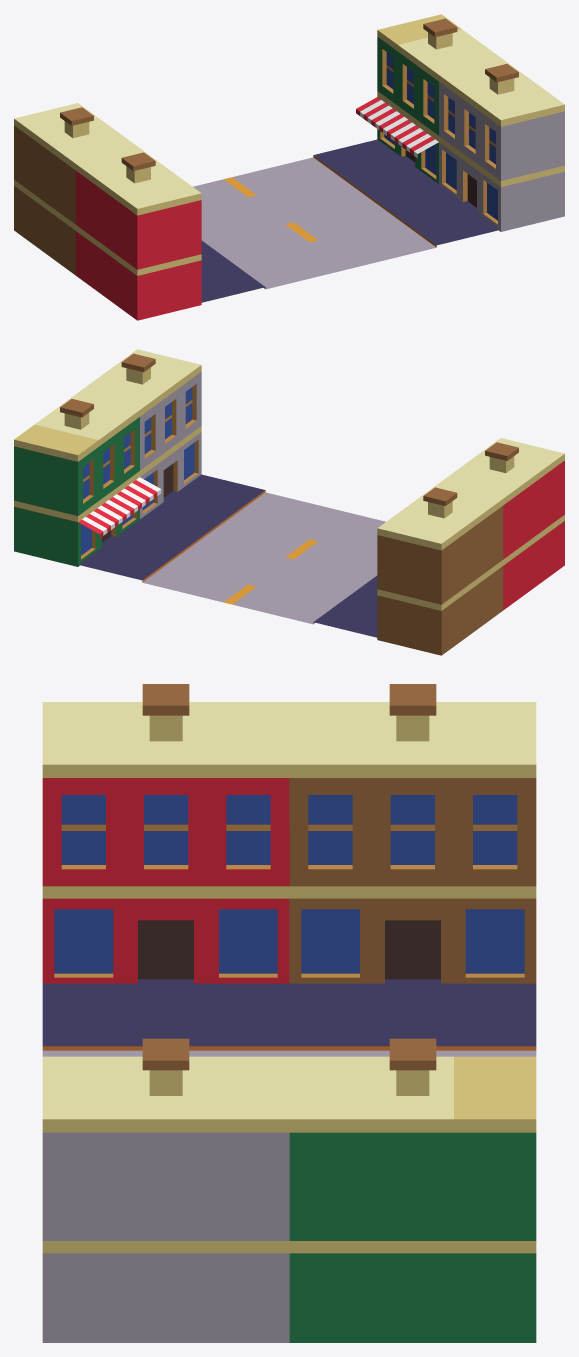
Rendered from road2_actuel_avant_merge.obj.
3 views of the same model, one above another, from view 1: azimuth 30°, elevation 25°; view 2: azimuth 150°, elevation 25°; view 3: azimuth 270°, elevation 25° (orthographic). The views are drawn at different scales.
Visible parts, largest first — view 1: BUILDINGS, ROAD2; view 2: BUILDINGS, ROAD2; view 3: BUILDINGS, ROAD2.
Boxes of the visible parts, x1,y1,x2,y2 form: BUILDINGS: [14, 14, 564, 320]; ROAD2: [193, 139, 500, 302]; BUILDINGS: [14, 349, 564, 655]; ROAD2: [78, 474, 385, 637]; BUILDINGS: [42, 684, 536, 1342]; ROAD2: [42, 979, 536, 1056].
Size of the model in its own units: 20 by 5.85 by 10.
